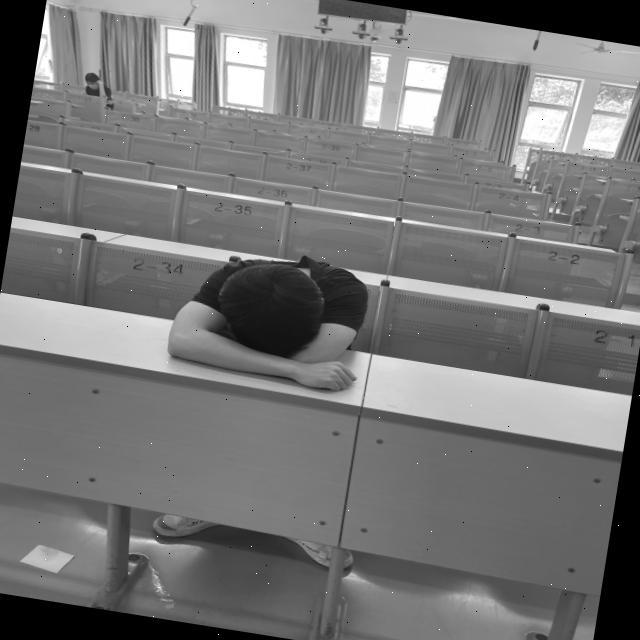sleep: (164, 243, 378, 398)
study: (80, 69, 113, 98)
